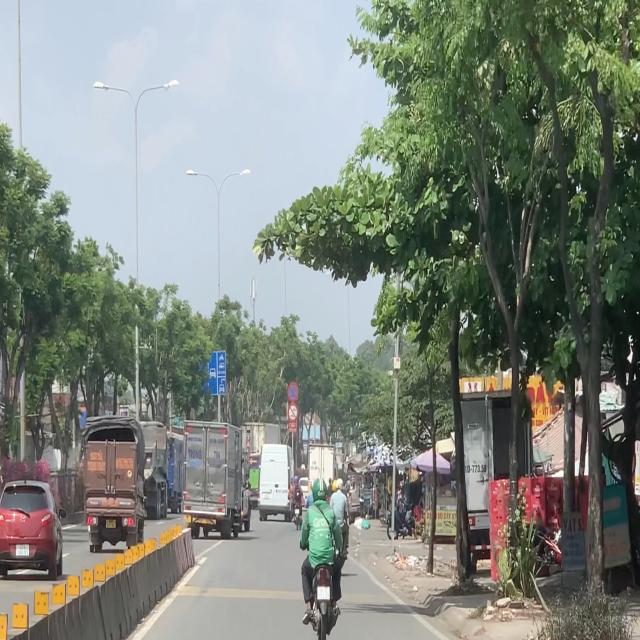Cam con lai: (288, 404, 299, 424)
Cam dung va do: (288, 382, 298, 402)
